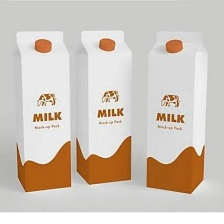carton: (143, 28, 209, 200), (71, 29, 140, 191), (9, 26, 73, 195)
